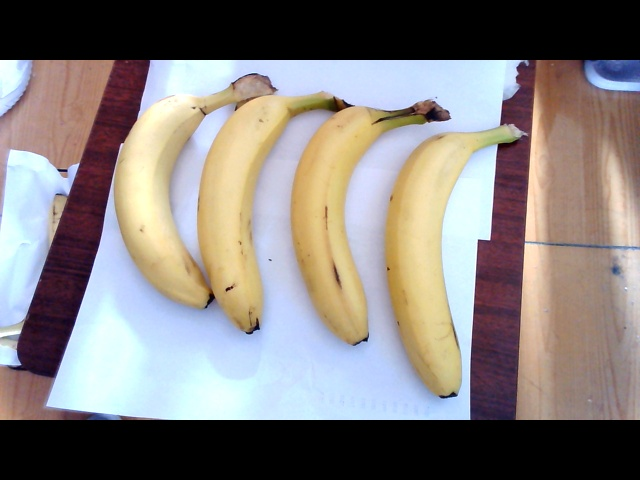banana: (380, 107, 494, 400), (196, 89, 294, 347), (289, 91, 376, 373), (117, 82, 194, 314)
